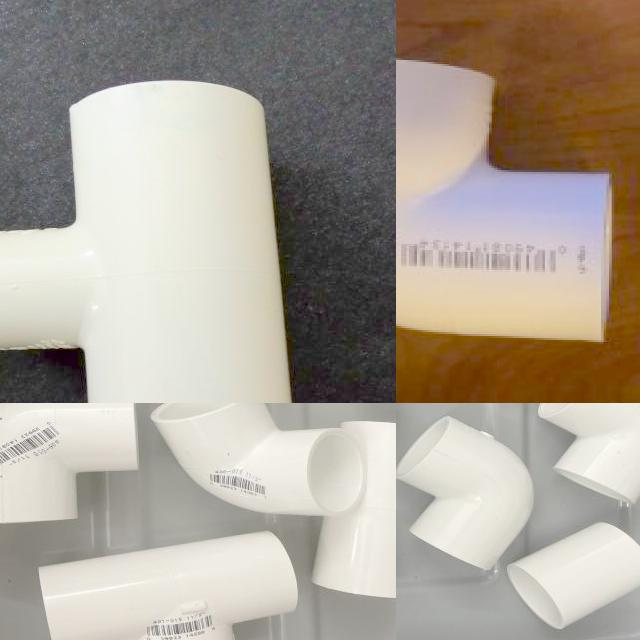L Joint: (396, 60, 614, 346), (152, 403, 368, 520), (396, 417, 533, 574), (537, 403, 640, 503)
T Joint: (0, 81, 292, 403), (37, 531, 300, 640), (312, 415, 396, 598)
